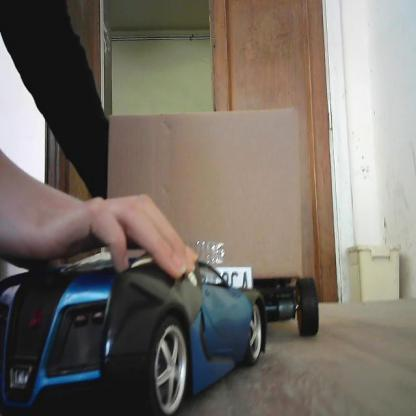LeadTruck: (104, 109, 321, 338)
